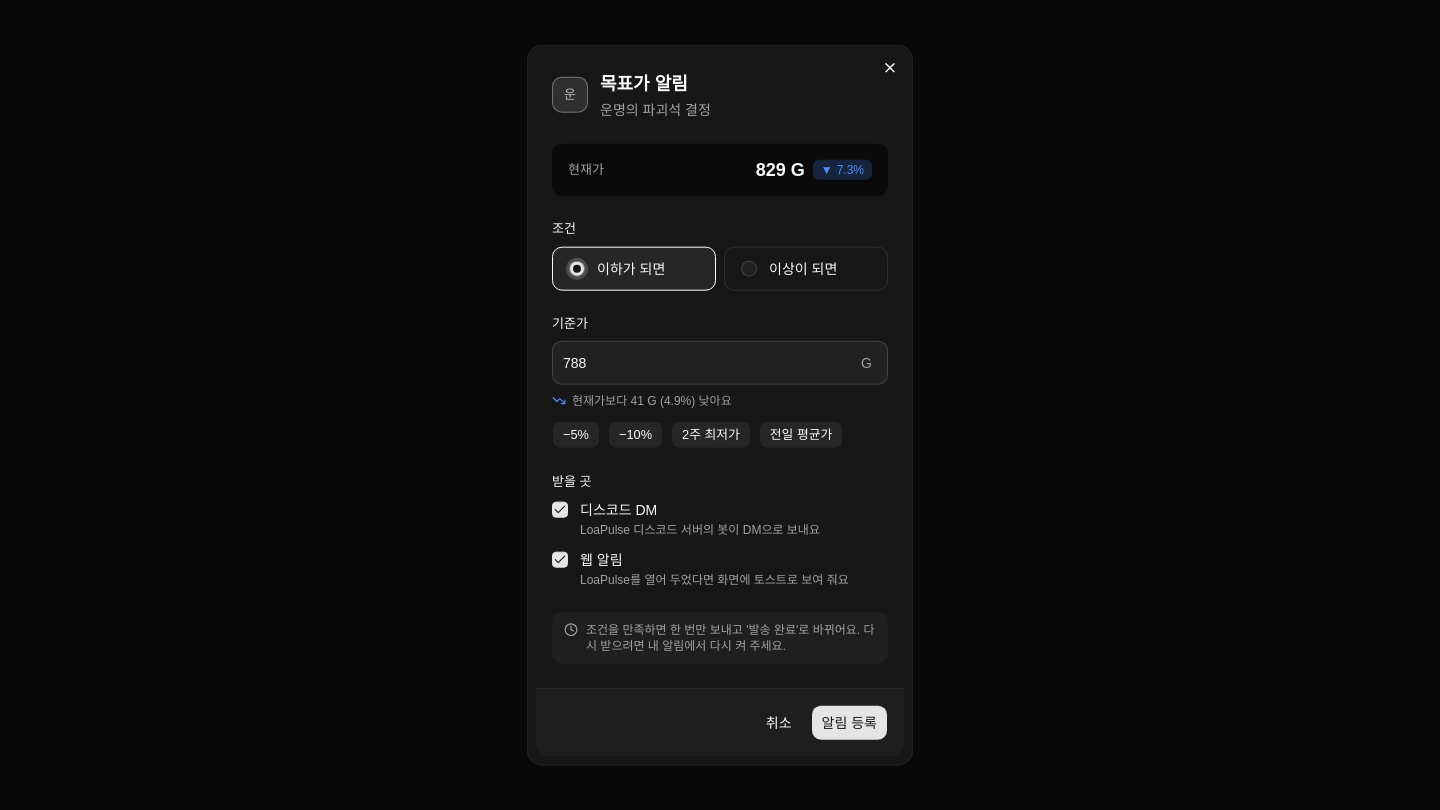
알림 설정 모달 › 입력이 틀리면 등록하지 않고 이유를 보여준다
Step 1. Clear the field labelled "기준가" → (720, 363), box [552, 341, 888, 385]
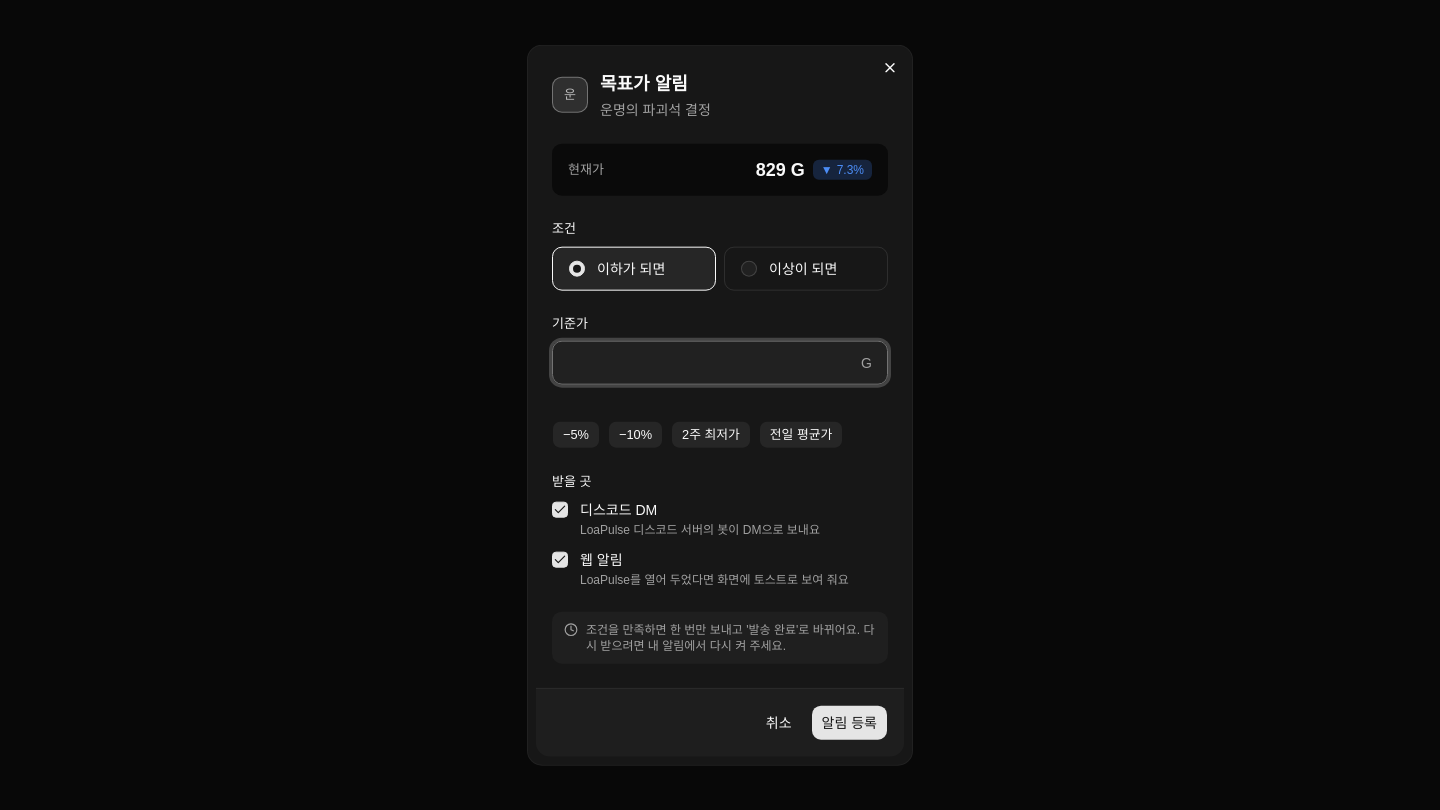
Step 2. Click the checkbox named "디스코드 DM" next to "디스코드 DM" → (560, 509), box [552, 501, 568, 517]
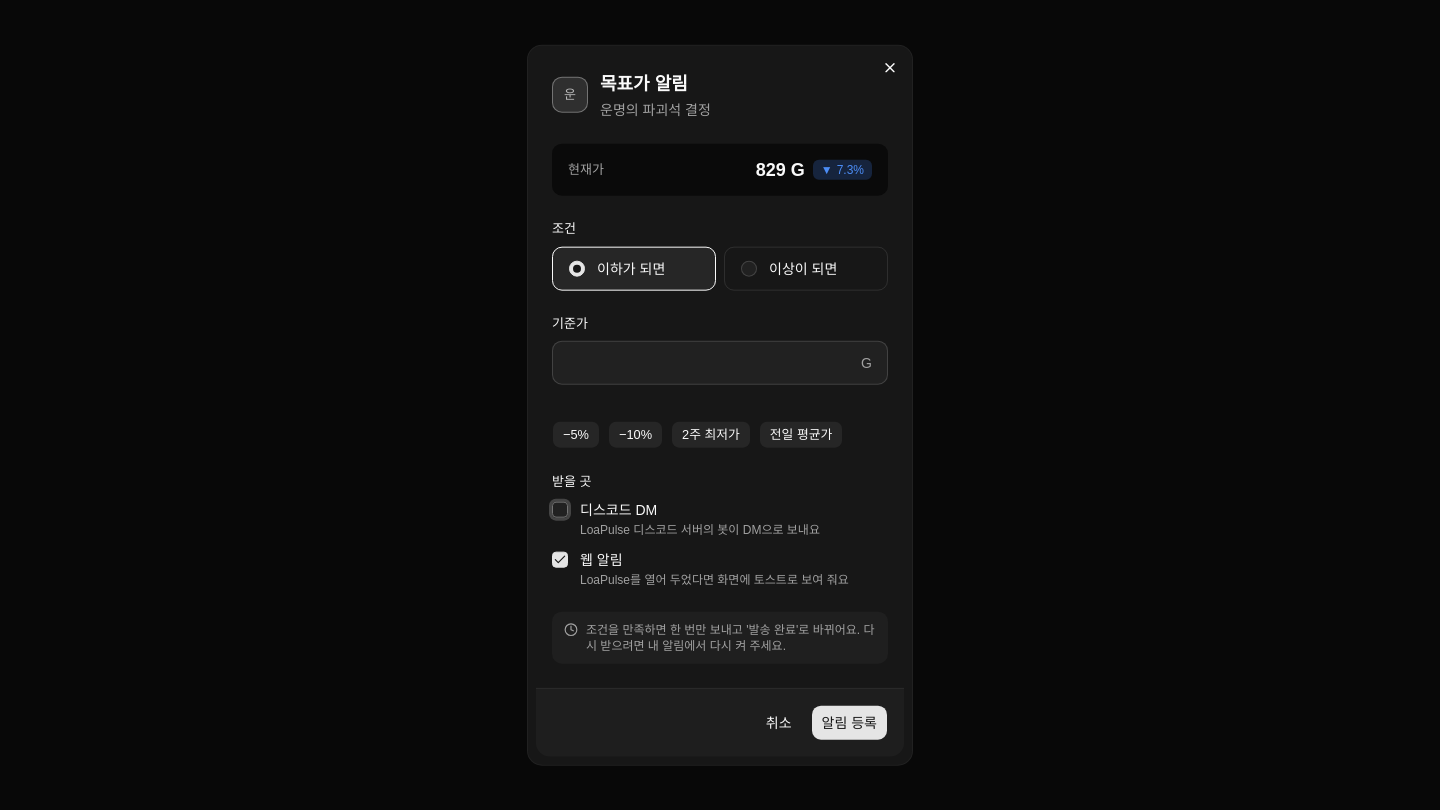
Step 3. Click the checkbox named "웹 알림" next to "웹 알림" → (560, 559), box [552, 551, 568, 567]
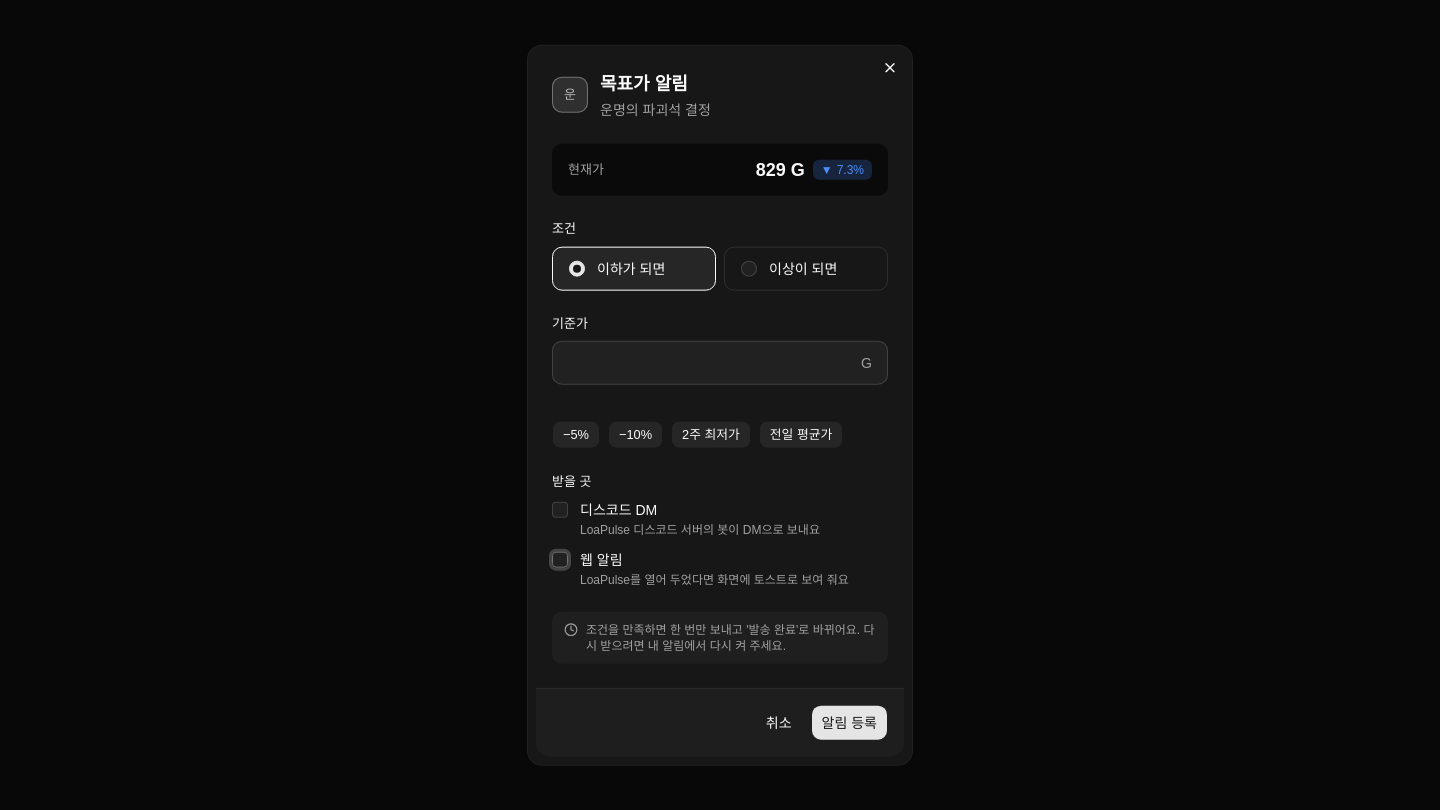
Step 4. Click the button "알림 등록" → (849, 722), box [811, 704, 888, 740]
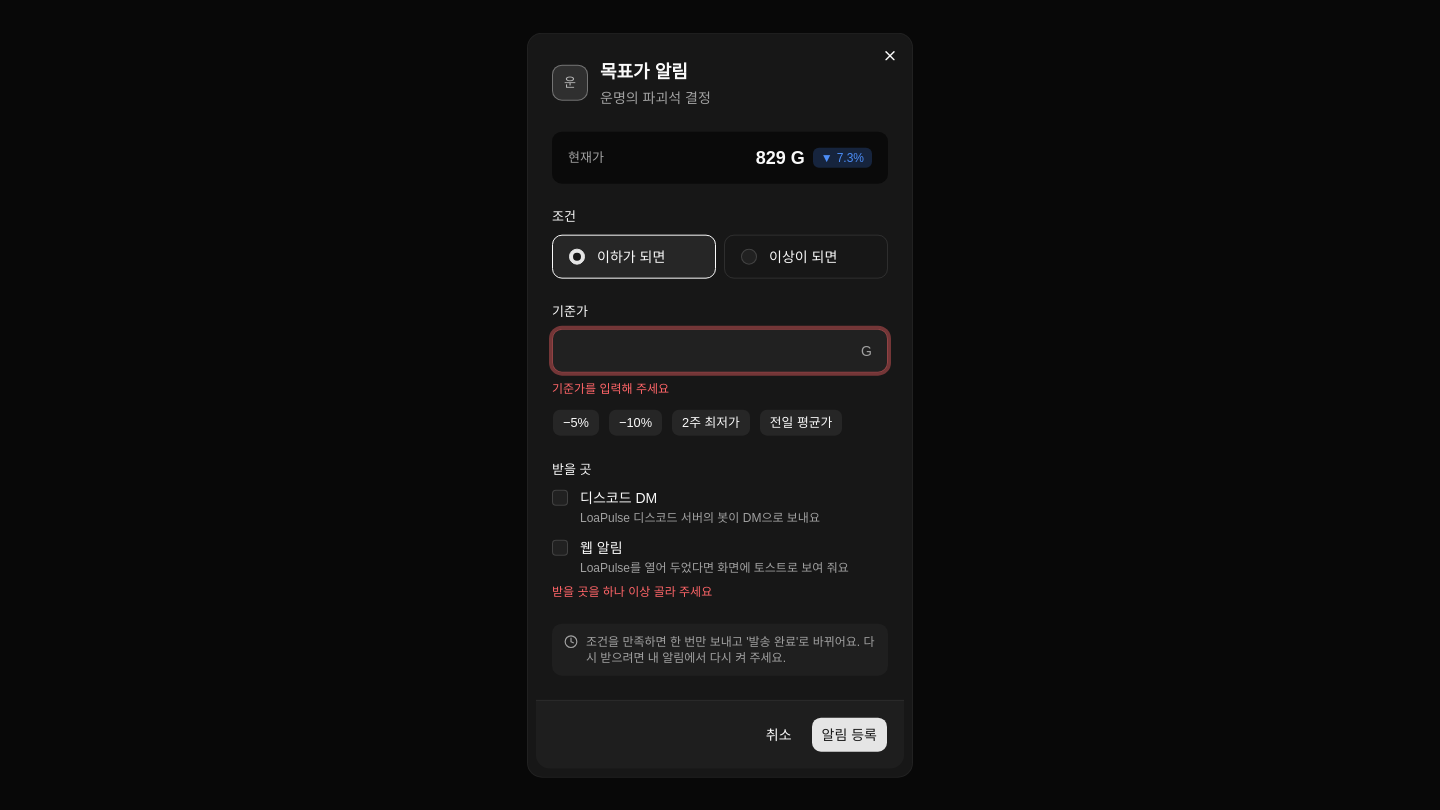
Now the text "기준가를 입력해 주세요" is shown, box [552, 382, 669, 396]
Now the text "받을 곳을 하나 이상 골라 주세요" is shown, box [552, 584, 712, 598]
